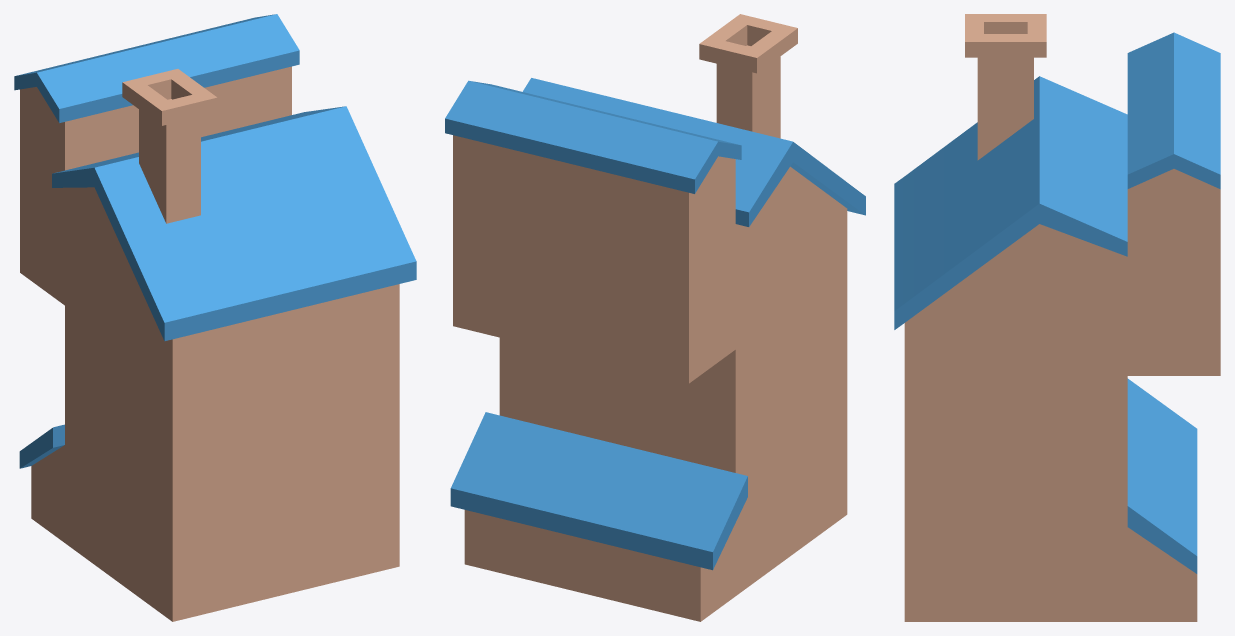
Rendered from Building_0.fbx.
The picture shows the model from 3 angles, left to right: view 1: azimuth 30°, elevation 25°; view 2: azimuth 150°, elevation 25°; view 3: azimuth 270°, elevation 25°; orthographic projection. The views are drawn at different scales.
Visible parts, largest first — view 1: Cube.001; view 2: Cube.001; view 3: Cube.001.
Part boxes in pixels (x1,y1,x2,y2): Cube.001: [14, 14, 416, 621]; Cube.001: [445, 14, 865, 621]; Cube.001: [894, 14, 1220, 621].
Size of the model in its own units: 223 by 408 by 240.
